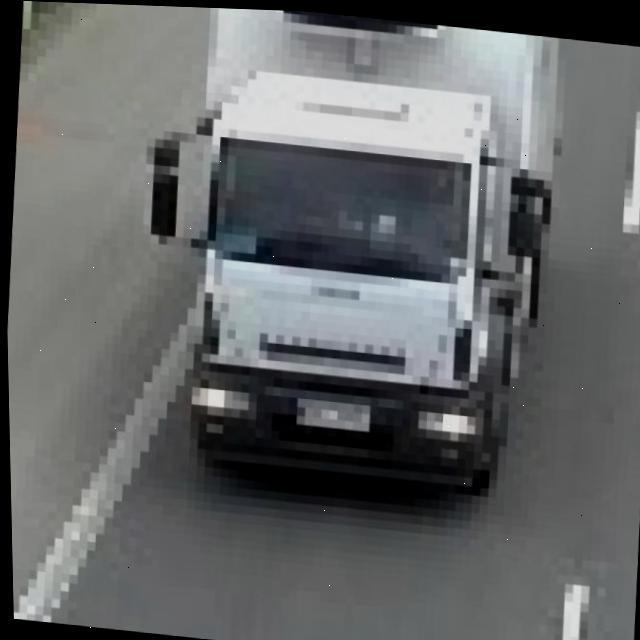truck: (136, 4, 590, 500)
